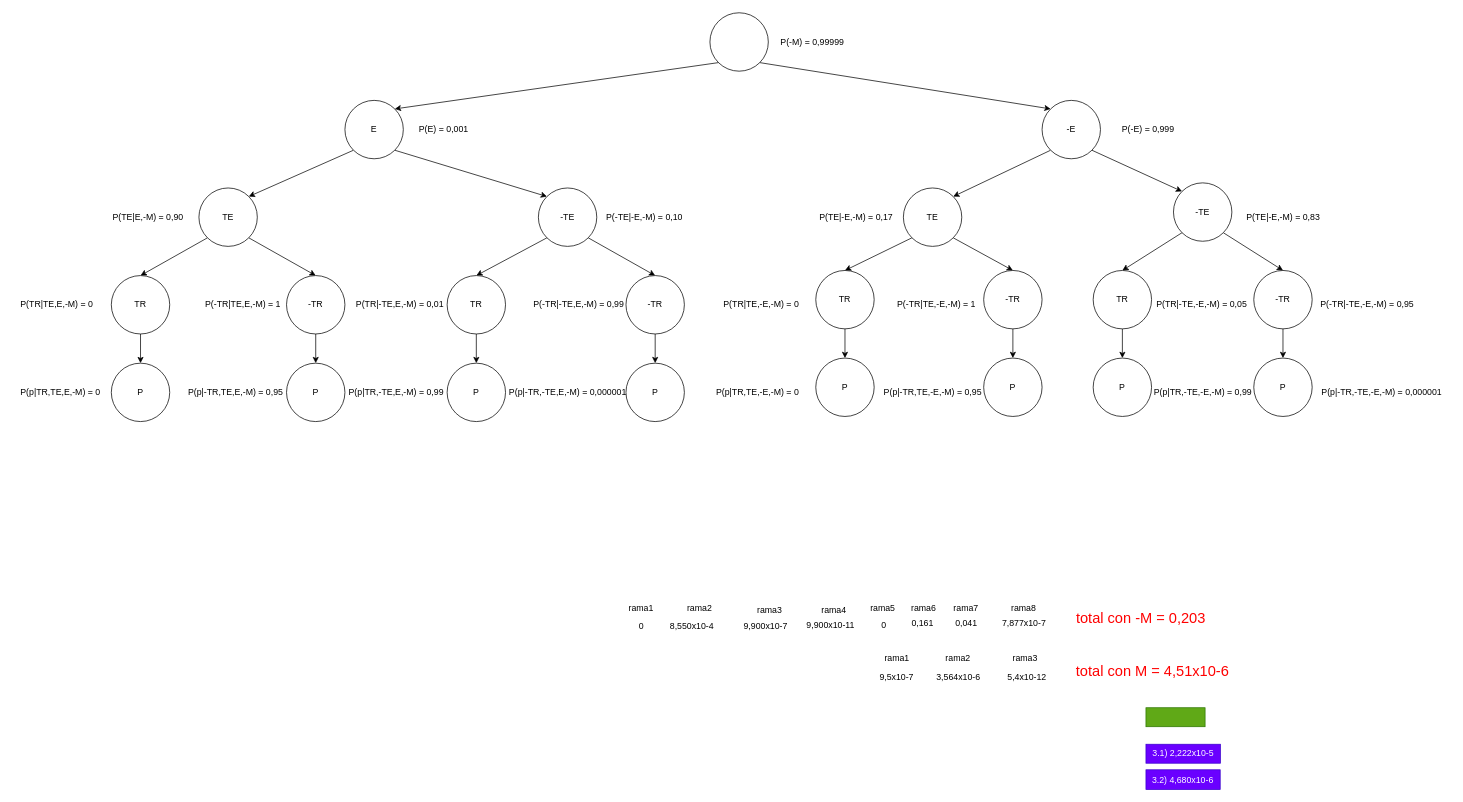
This 1463x802 diagram has some shape labels left out. Each missing label, with the box of its shape:
-M: (709, 12, 768, 71)
alfa = 4,926: (1145, 707, 1205, 727)
